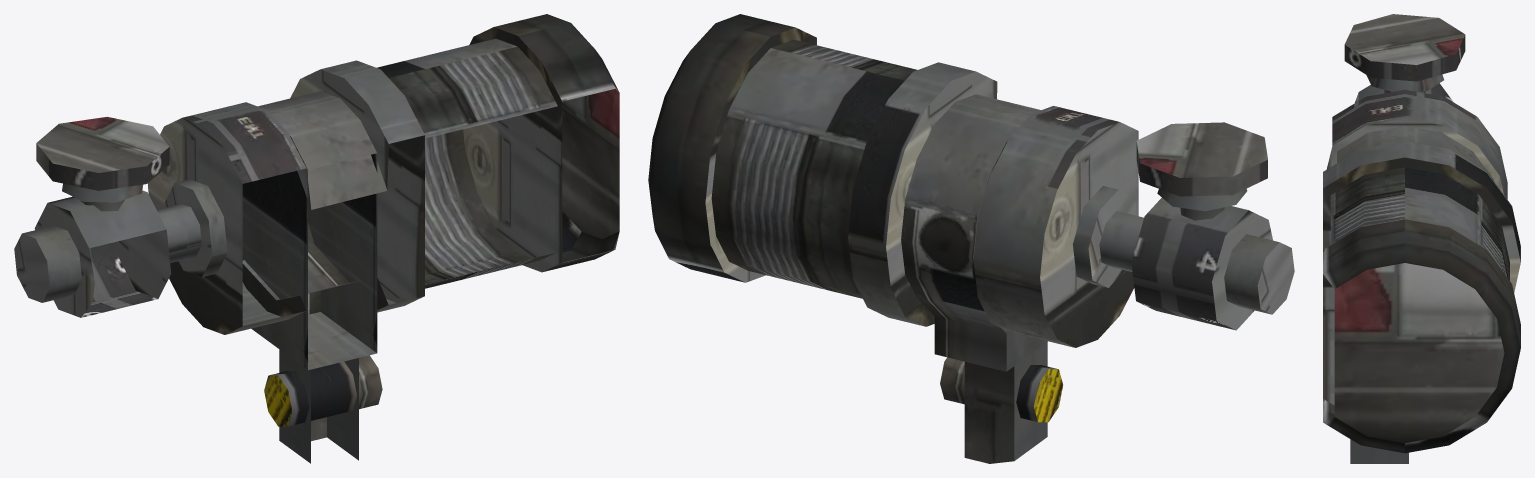
File: p_glo_briefcase_bomb_canister_a.glb
The picture shows the model from 3 angles, left to right: view 1: azimuth 30°, elevation 25°; view 2: azimuth 150°, elevation 25°; view 3: azimuth 270°, elevation 25°; orthographic projection. The views are drawn at different scales.
Visible parts, largest first — view 1: p_glo_briefcase_bomb_canister_a; view 2: p_glo_briefcase_bomb_canister_a; view 3: p_glo_briefcase_bomb_canister_a.
Part boxes in pixels (<box>): p_glo_briefcase_bomb_canister_a: <box>14,14,619,463</box>; p_glo_briefcase_bomb_canister_a: <box>648,14,1294,463</box>; p_glo_briefcase_bomb_canister_a: <box>1323,14,1520,463</box>.
Size of the model in its own units: 0.2487 by 0.1544 by 0.084.
1 material, 1 textured.
